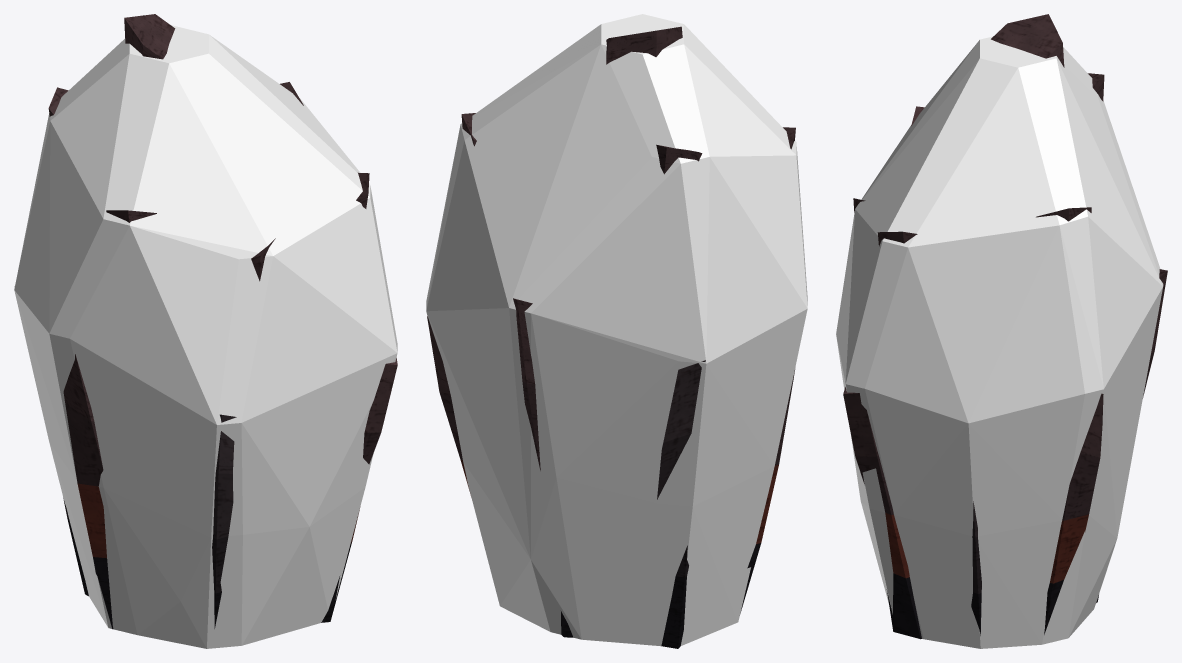
The model's file is volcanic_basalt_spire.glb.
3 views of the same model, side by side, from view 1: azimuth 30°, elevation 25°; view 2: azimuth 150°, elevation 25°; view 3: azimuth 270°, elevation 25° (orthographic). The views are drawn at different scales.
Visible parts, largest first — view 1: col_basalt_spire, VolcanicBasaltSpire; view 2: col_basalt_spire, VolcanicBasaltSpire; view 3: col_basalt_spire, VolcanicBasaltSpire.
Boxes of the visible parts, x1=… form: col_basalt_spire: x1=14, y1=25, x2=397, y2=648; VolcanicBasaltSpire: x1=14, y1=14, x2=397, y2=629; col_basalt_spire: x1=426, y1=14, x2=807, y2=646; VolcanicBasaltSpire: x1=427, y1=26, x2=795, y2=648; col_basalt_spire: x1=836, y1=36, x2=1163, y2=648; VolcanicBasaltSpire: x1=843, y1=14, x2=1167, y2=639.
Bounding box in the file's own units: 11.36 × 19.28 × 10.39.
Materials: 3 (1 with a texture image).
